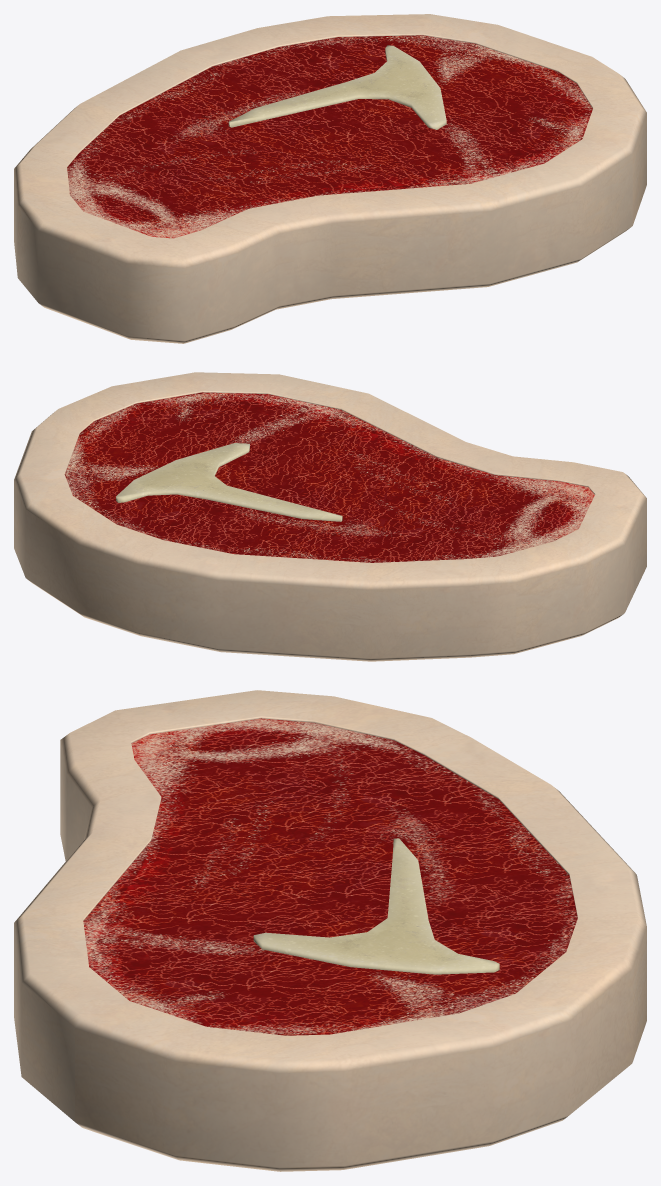
3 renders of one model, top to bottom at view 1: azimuth 30°, elevation 25°; view 2: azimuth 150°, elevation 25°; view 3: azimuth 270°, elevation 25°, orthographic. The views are drawn at different scales.
Parts seen in each view (by area): view 1: ge_Steak1; view 2: ge_Steak1; view 3: ge_Steak1.
Part boxes in pixels (x1,y1,x2,y2): ge_Steak1: (14, 14, 646, 343); ge_Steak1: (14, 372, 646, 661); ge_Steak1: (14, 690, 646, 1171).
Bounding box in the file's own units: 55.7 × 8.11 × 39.33.
1 material, 1 textured.
